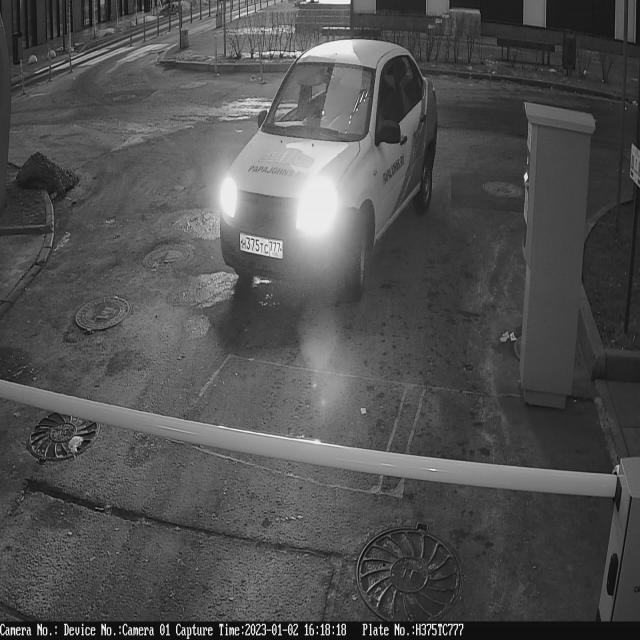car-plate-numbers: (239, 230, 286, 263)
